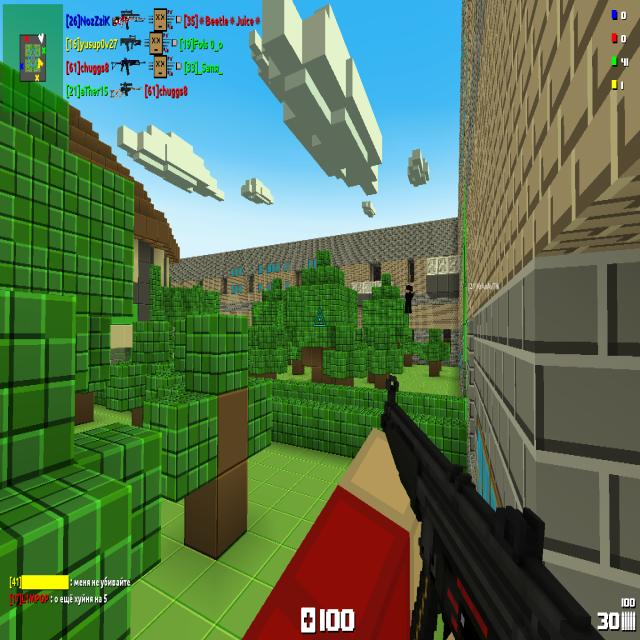enemy: (404, 284, 414, 314)
